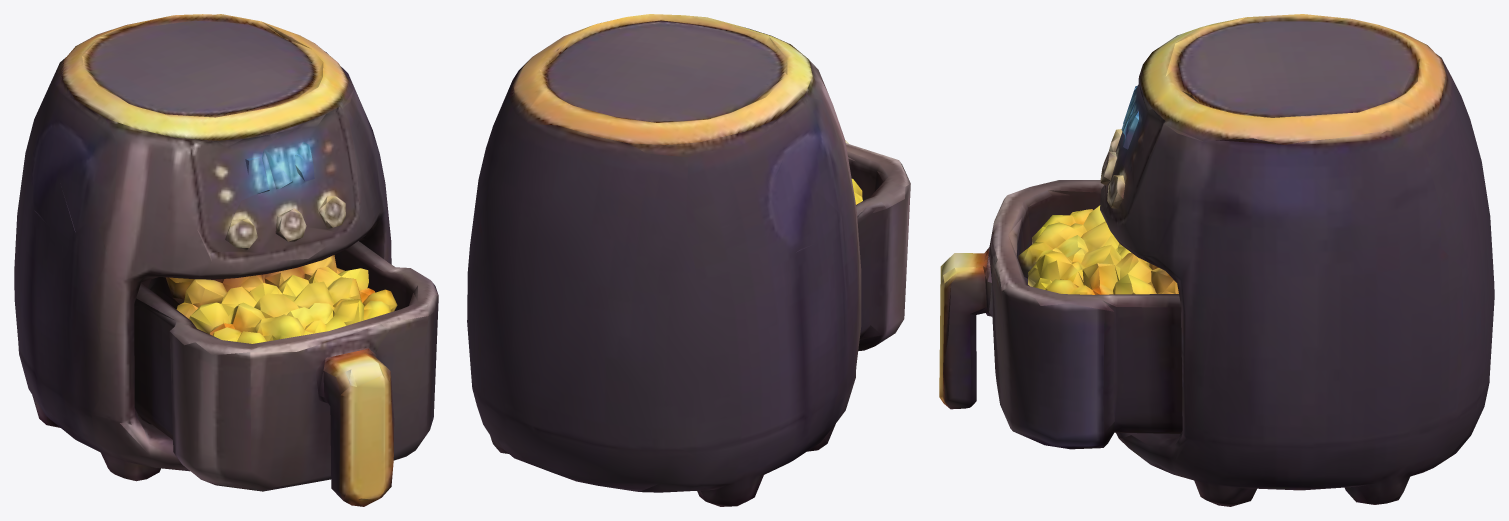
Rendered from appl03.glb.
3 views of the same model, side by side, from view 1: azimuth 30°, elevation 25°; view 2: azimuth 150°, elevation 25°; view 3: azimuth 270°, elevation 25° (orthographic). The views are drawn at different scales.
Size of the model in its own units: 0.2255 by 0.2491 by 0.3289.
1 material, 1 textured.
